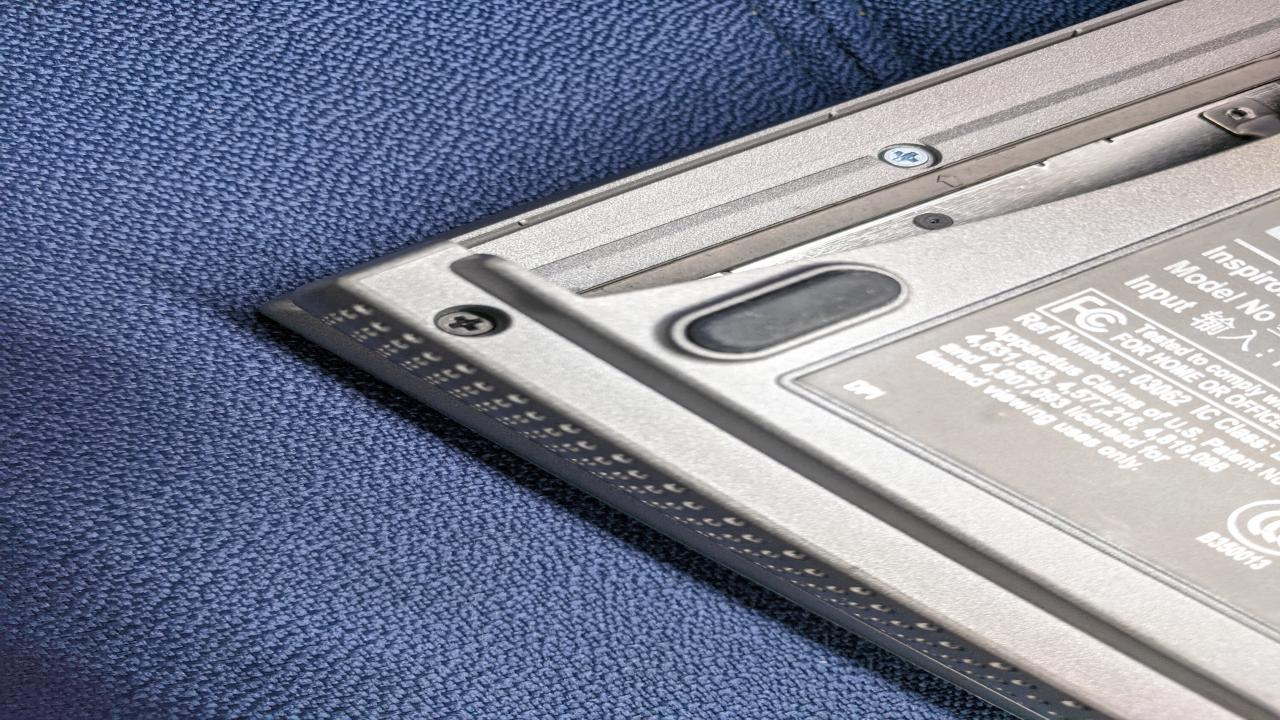CRS: (431, 306, 508, 336), (880, 143, 932, 168)
